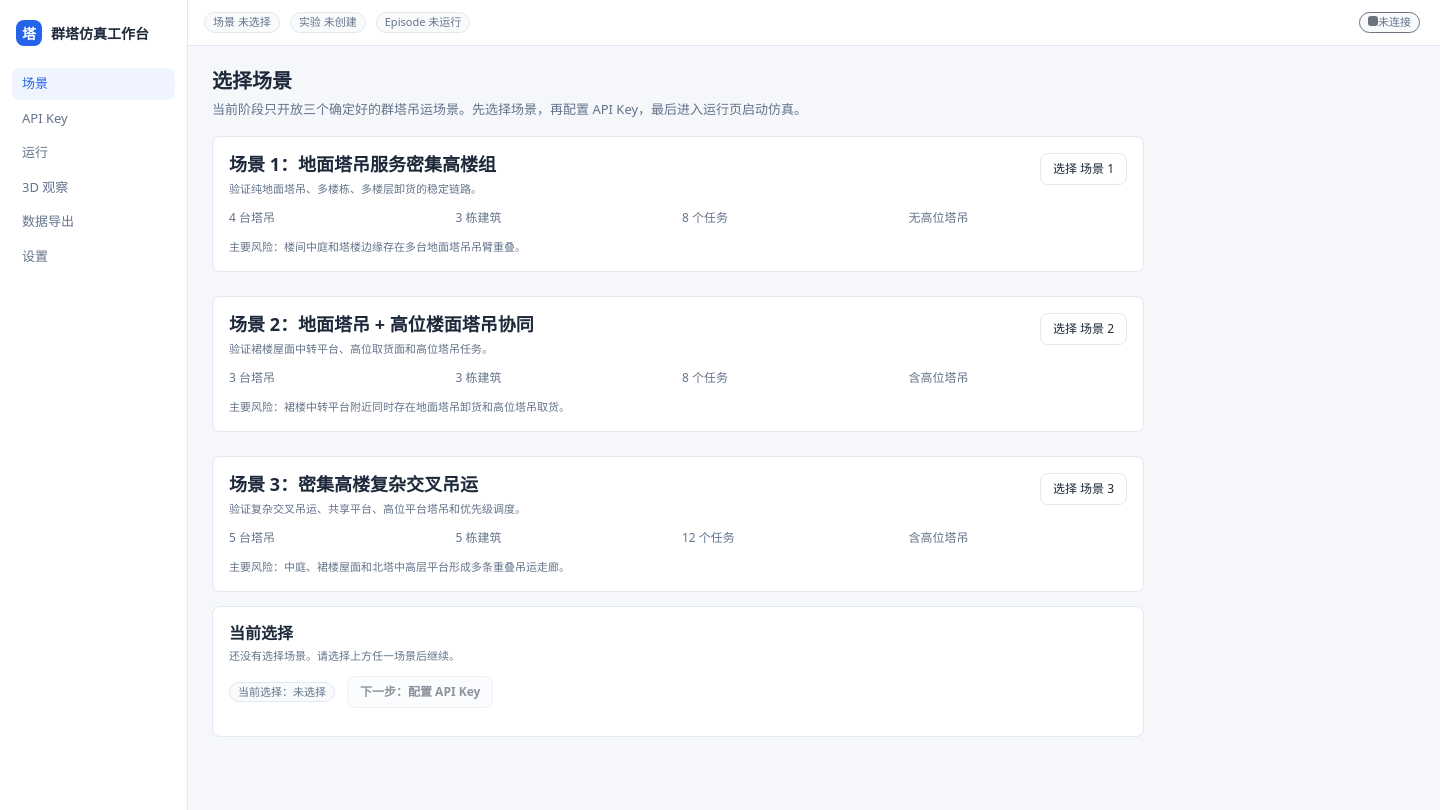
Test: curated workbench flow › uses the experiment page as the three-scenario entry point
Check: the heading "选择场景" is shown, box [212,67,292,94]
Check: the link "场景" is shown, box [12,68,175,100]
Click the button "选择 场景 1" at x=1083, y=168, box [1040,152,1127,184]
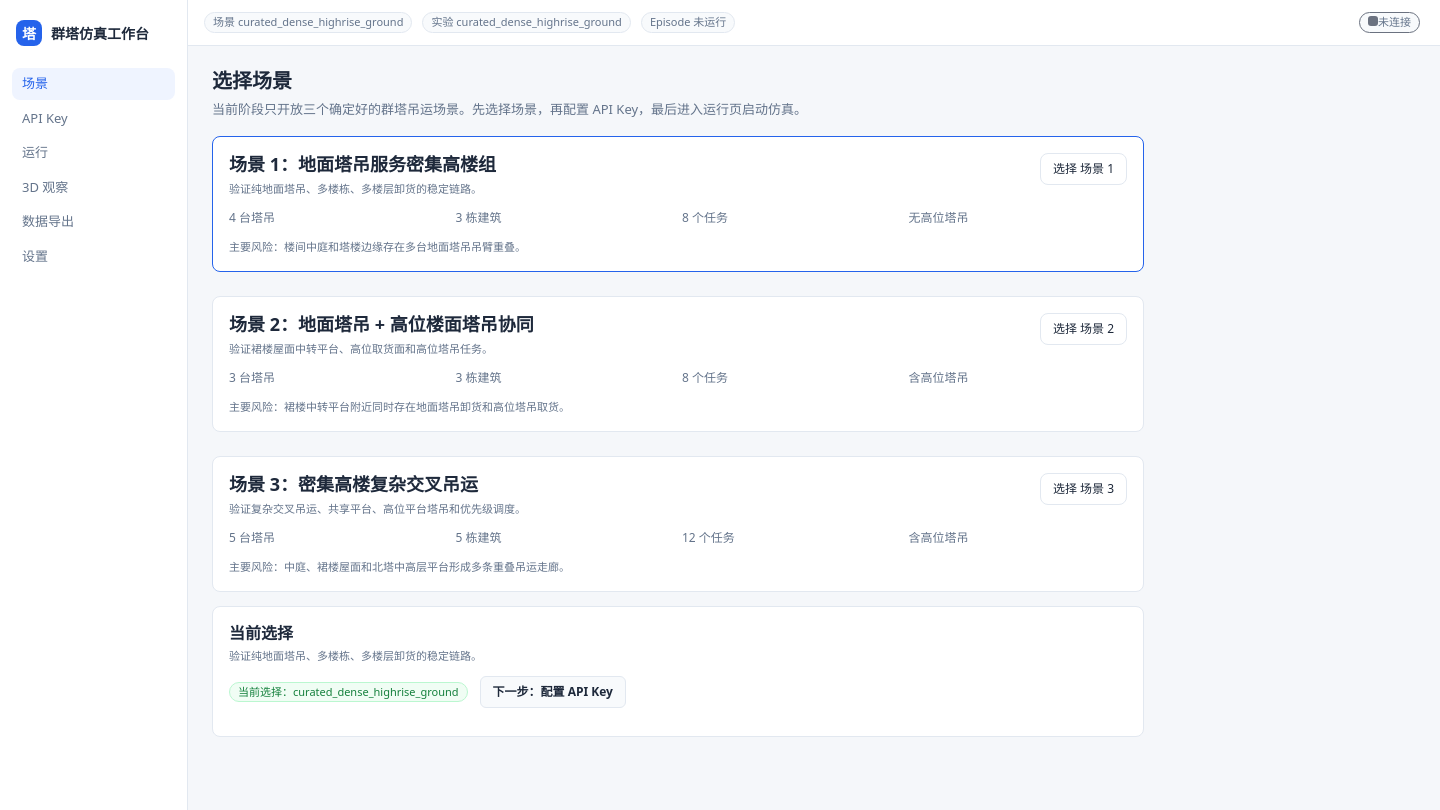
Check: the text "当前选择：curated_dense_highrise_ground" is shown, box [229,682,468,702]
Click the link "下一步：配置 API Key" at x=553, y=692, box [480,676,626,708]
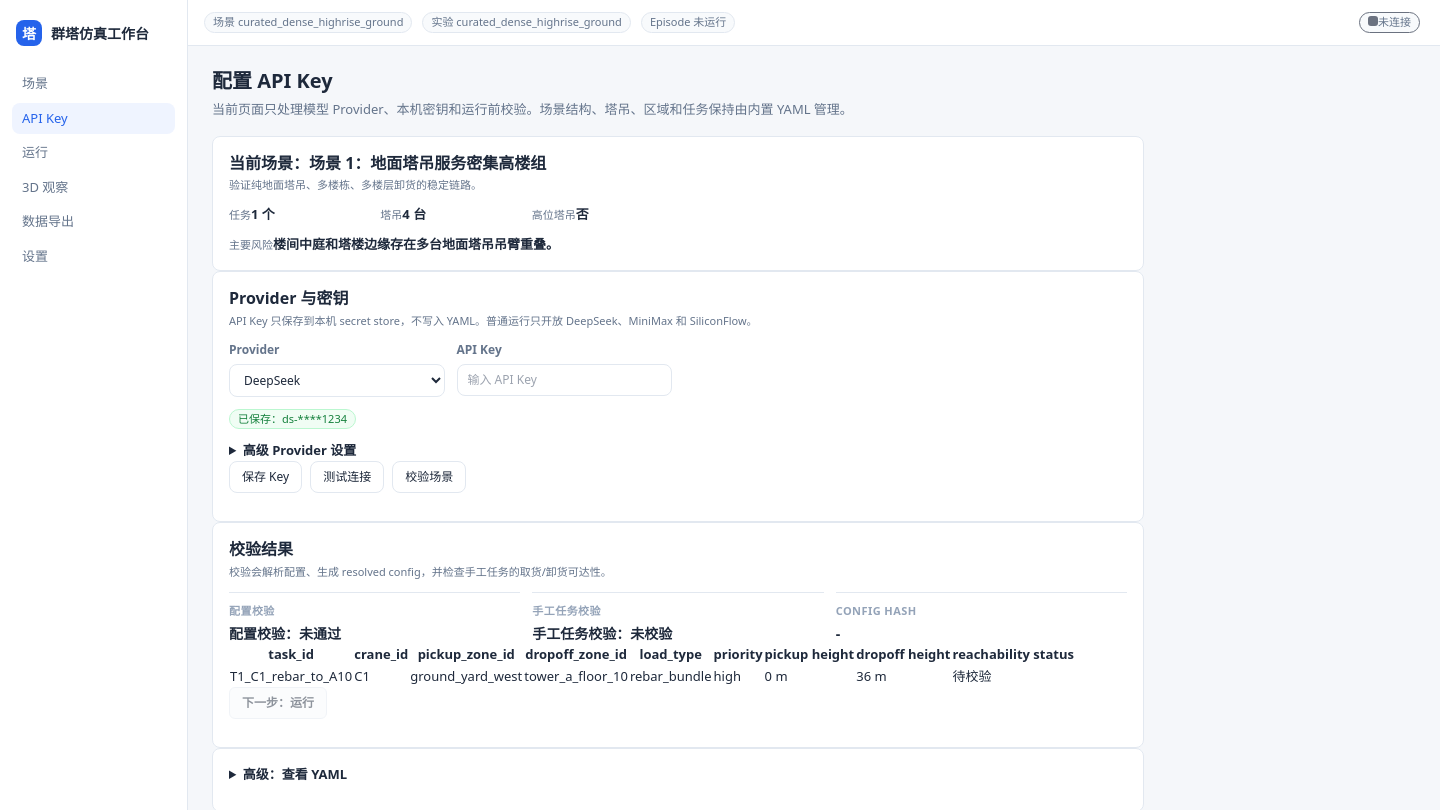
Check: the heading "配置 API Key" is shown, box [212,67,333,94]
